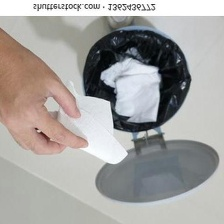tissue: (41, 75, 131, 167), (95, 52, 166, 128)
